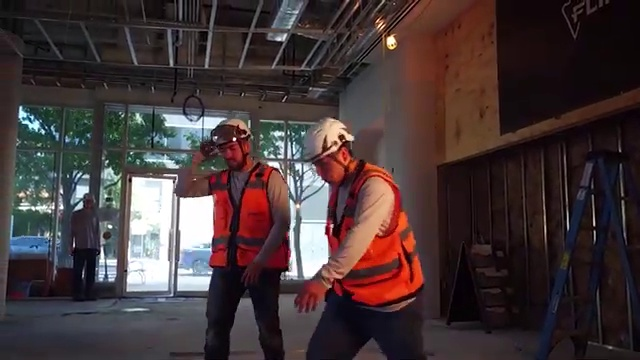helmet: (297, 110, 367, 160), (209, 111, 254, 150)
jacket: (324, 154, 431, 314), (203, 161, 295, 274)
